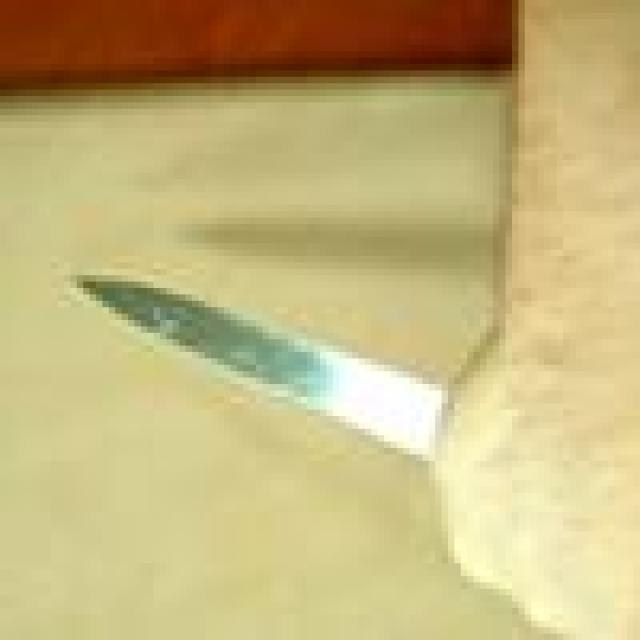knife: (64, 276, 446, 453)
